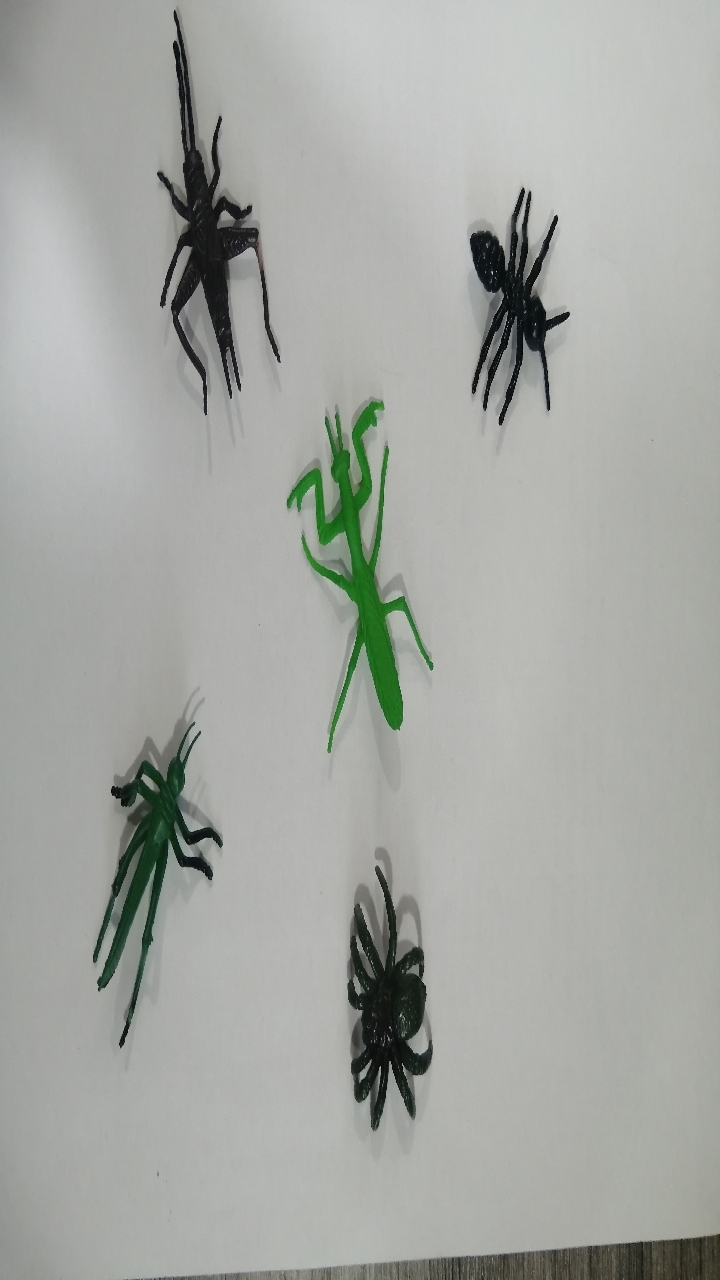intruso: (89, 9, 300, 415), (41, 695, 246, 1074), (260, 400, 463, 755), (295, 852, 486, 1159), (428, 174, 589, 439)
